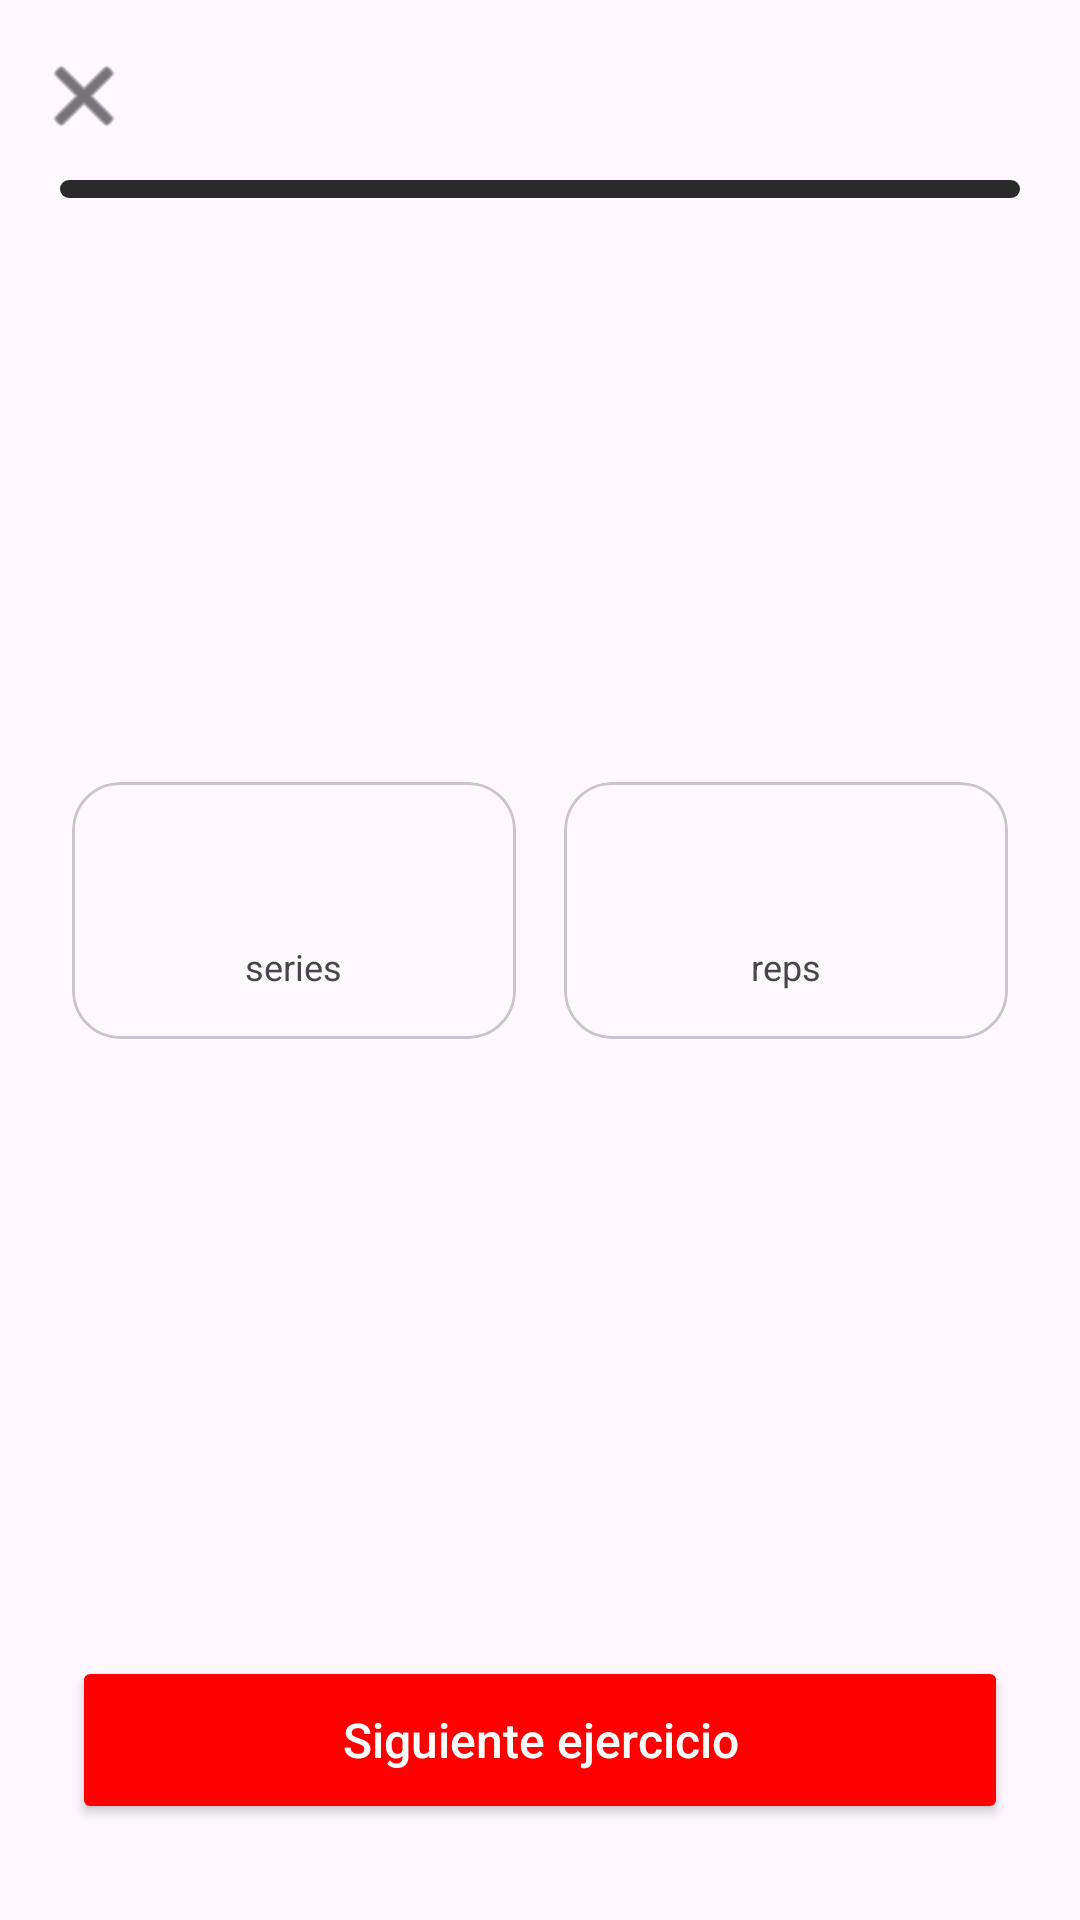

Named icons in this screenshot (1080 × 1920) and their bounding boxes, (x1, y1, x2, y2):
Cerrar: (54, 66, 114, 126)
